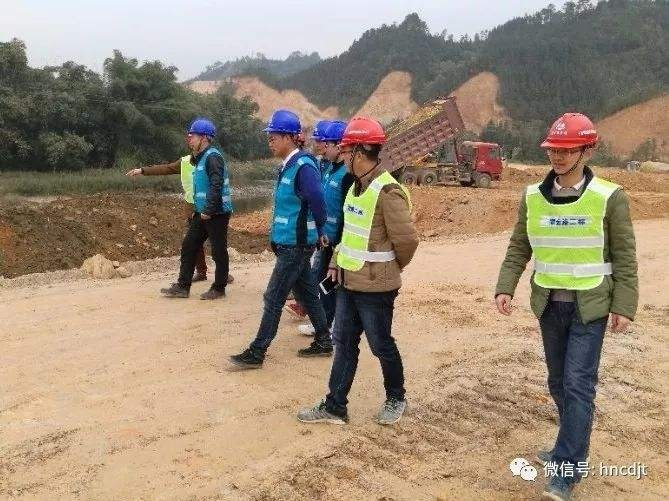blue: (265, 110, 302, 156), (185, 118, 214, 154), (322, 120, 344, 160), (309, 119, 328, 155)
red: (544, 109, 596, 177), (338, 117, 389, 178)
